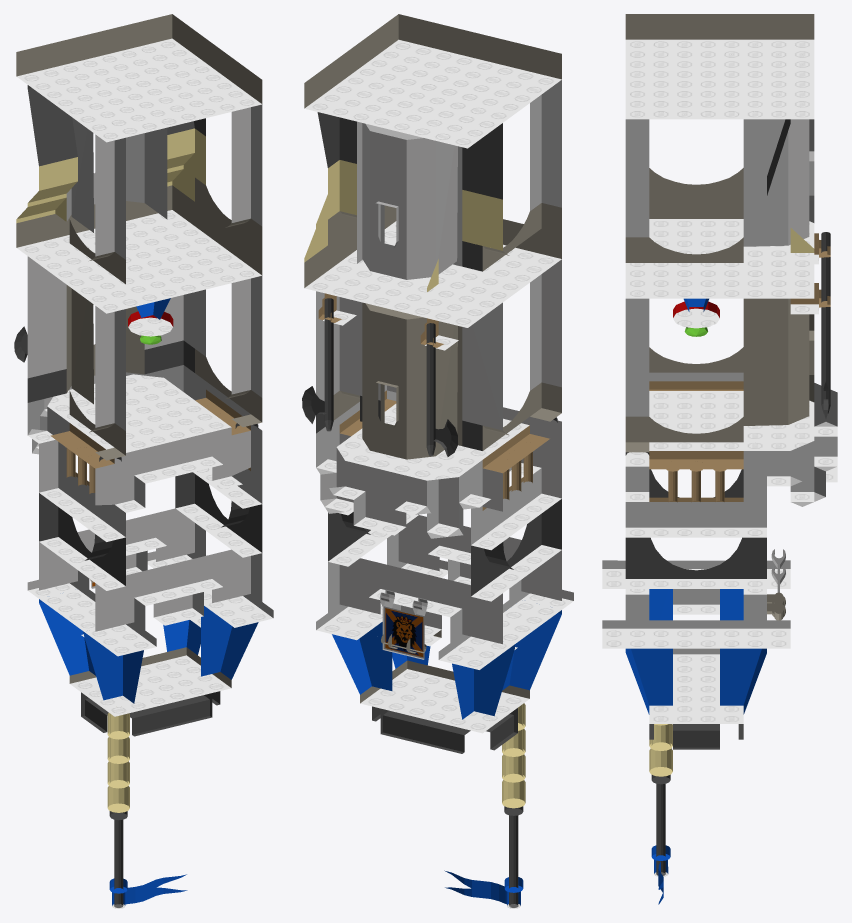
The picture shows the model from 3 angles, left to right: view 1: azimuth 30°, elevation 25°; view 2: azimuth 150°, elevation 25°; view 3: azimuth 270°, elevation 25°; orthographic projection. The views are drawn at different scales.
Visible parts, largest first — view 1: 004_OC_6098B3_PART_1, 057_shape27, 047_shape21, 042_shape18, 052_shape24, 029_shape9, 077_shape38, 024_SCL_Castle___OC6098B3___Flag; view 2: 004_OC_6098B3_PART_1, 057_shape27, 047_shape21, 042_shape18, 052_shape24, 029_shape9, 063_shape31, 068_shape34, 082_shape41, 024_SCL_Castle___OC6098B3___Flag; view 3: 004_OC_6098B3_PART_1, 057_shape27, 042_shape18, 047_shape21, 052_shape24, 029_shape9, 063_shape31, 077_shape38, 068_shape34.
Boxes of the visible parts, x1,y1,x2,y2 form: 004_OC_6098B3_PART_1: (16, 14, 262, 313); 057_shape27: (27, 256, 262, 541); 047_shape21: (27, 508, 273, 656); 042_shape18: (39, 599, 258, 736); 052_shape24: (39, 472, 262, 590); 029_shape9: (107, 713, 129, 905); 077_shape38: (128, 298, 173, 336); 024_SCL_Castle___OC6098B3___Flag: (126, 874, 187, 904); 004_OC_6098B3_PART_1: (304, 14, 561, 327); 057_shape27: (316, 259, 561, 550); 047_shape21: (316, 515, 573, 669); 042_shape18: (332, 610, 561, 753); 052_shape24: (328, 499, 561, 601); 029_shape9: (502, 703, 525, 907); 063_shape31: (302, 293, 356, 431); 068_shape34: (420, 318, 458, 456); 082_shape41: (379, 589, 427, 659); 024_SCL_Castle___OC6098B3___Flag: (444, 870, 505, 903); 004_OC_6098B3_PART_1: (625, 14, 814, 298); 057_shape27: (625, 298, 837, 537); 042_shape18: (625, 589, 766, 749); 047_shape21: (602, 560, 790, 664); 052_shape24: (625, 469, 766, 588); 029_shape9: (649, 724, 672, 875); 063_shape31: (790, 281, 830, 418); 077_shape38: (673, 298, 719, 328); 068_shape34: (814, 232, 830, 282).
Bounding box in the file's own units: 6.4 × 31.68 × 8.
13 materials, 5 textured.
